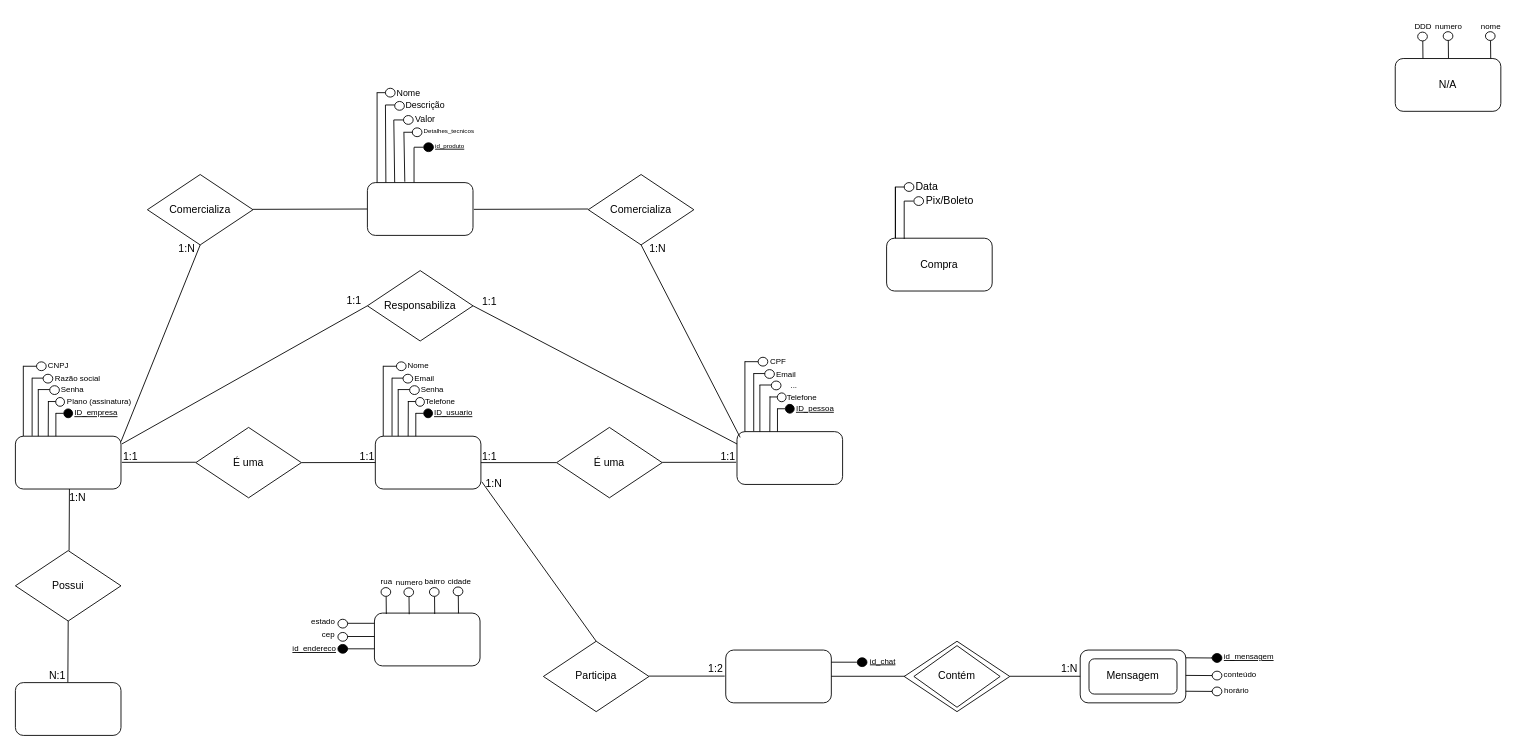
The diagram is 1524 pixels wide and 751 high, and some of its shapes have lost their labels. Each missing label, with the centre of its shape:
"Chat" goes at point 778,676.
"Empresa" goes at point 68,462.
"Endereço" goes at point 427,639.
"Pessoa" goes at point 789,457.
"Ponto de distribuição" goes at point 68,708.
"Produto(s)" goes at point 420,208.
"Usuário (login)" goes at point 427,462.
